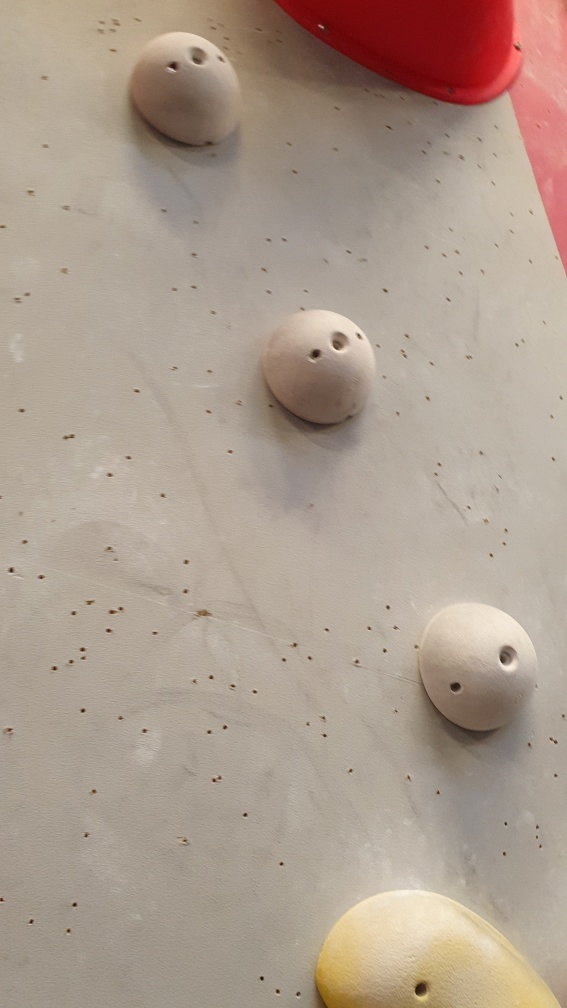Sloper: (419, 600, 537, 739), (260, 302, 375, 430), (131, 27, 245, 143)
